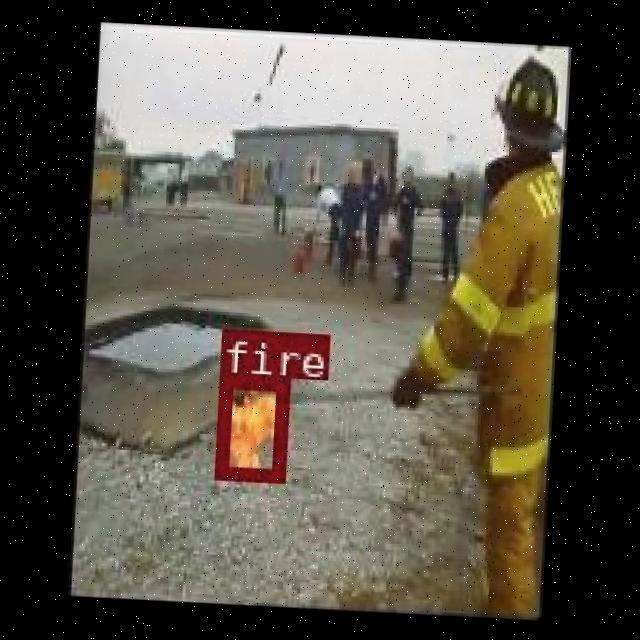fire: (214, 373, 288, 481)
